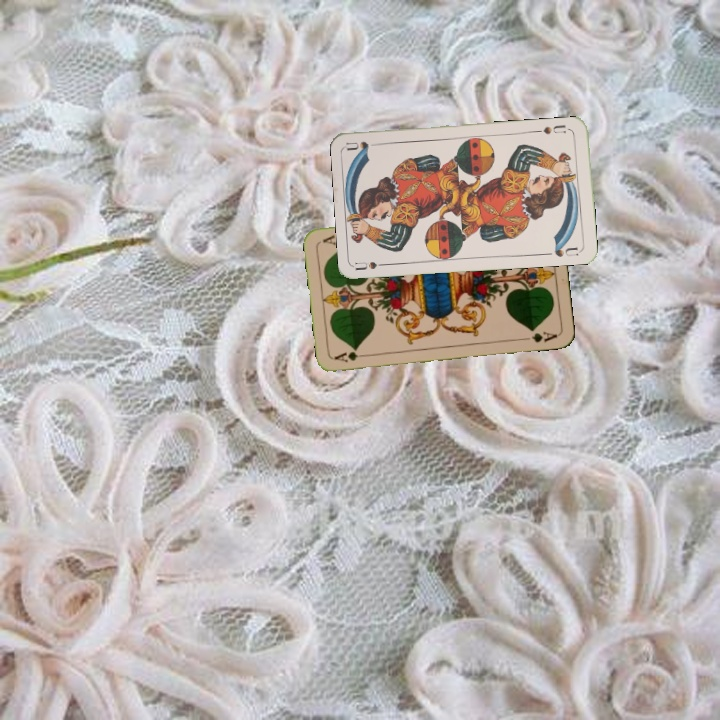GA: (331, 347, 371, 365)
SU: (352, 257, 393, 274), (539, 121, 568, 136)
